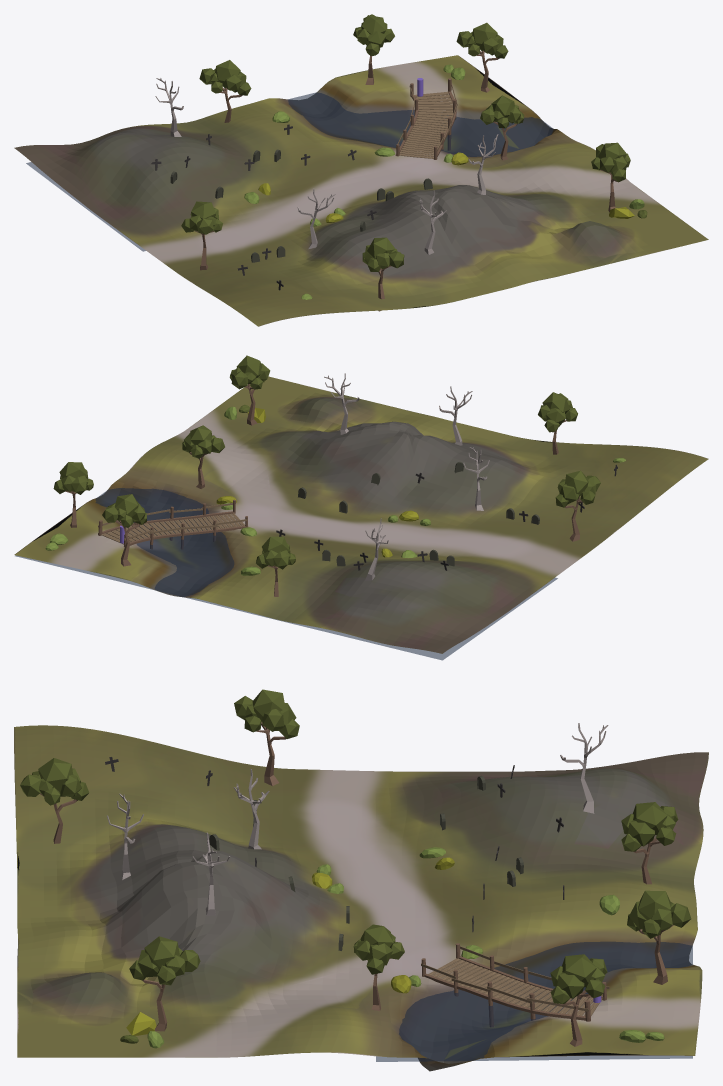
Rendered from hauttis.glb.
3 views of the same model, one above another, from view 1: azimuth 30°, elevation 25°; view 2: azimuth 150°, elevation 25°; view 3: azimuth 270°, elevation 25° (orthographic). The views are drawn at different scales.
Parts seen in each view (by area): view 1: maa, woda, lankut; view 2: maa, woda, lankut; view 3: maa, woda, lankut, laita.001, Icosphere.041, runko.003, Icosphere.059, Icosphere.014, Icosphere.032, Icosphere.023, runko, Icosphere.005 (+2 smaller).
Part boxes in pixels (x1,y1,x2,y2): maa: [14, 55, 708, 326]; woda: [26, 92, 553, 251]; lankut: [399, 91, 453, 158]; maa: [14, 376, 708, 653]; woda: [15, 488, 557, 660]; lankut: [101, 513, 244, 544]; maa: [14, 725, 708, 1071]; woda: [376, 941, 692, 1061]; lankut: [428, 958, 602, 1016]; laita.001: [424, 973, 590, 1021]; Icosphere.041: [144, 936, 179, 969]; runko.003: [560, 723, 608, 813]; Icosphere.059: [38, 758, 73, 793]; Icosphere.014: [632, 802, 667, 834]; Icosphere.032: [562, 954, 596, 987]; Icosphere.023: [638, 890, 671, 920]; runko: [233, 769, 269, 849]; Icosphere.005: [252, 689, 285, 722].
Bounding box in the file's own units: 52.46 × 12.3 × 51.39.
Materials: 11 (1 with a texture image).
